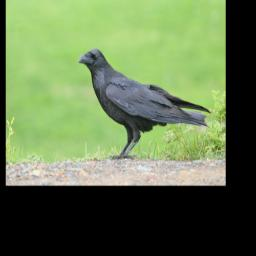Crow: (77, 48, 212, 161)
